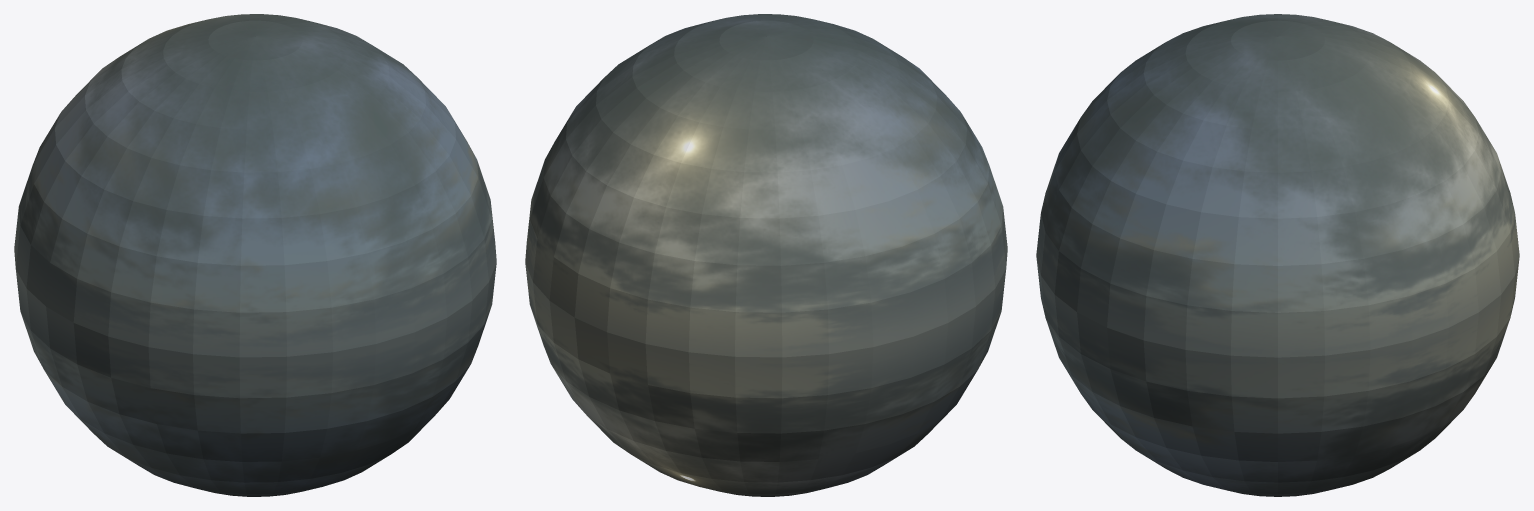
The model's file is stage04.glb.
The picture shows the model from 3 angles, left to right: view 1: azimuth 30°, elevation 25°; view 2: azimuth 150°, elevation 25°; view 3: azimuth 270°, elevation 25°; orthographic projection.
Parts seen in each view (by area): view 1: Sphere; view 2: Sphere; view 3: Sphere.
Boxes of the visible parts, x1=… form: Sphere: x1=14, y1=14, x2=496, y2=496; Sphere: x1=525, y1=14, x2=1007, y2=496; Sphere: x1=1036, y1=14, x2=1519, y2=496.
Bounding box in the file's own units: 500 × 500 × 500.
20 materials, 5 textured.
